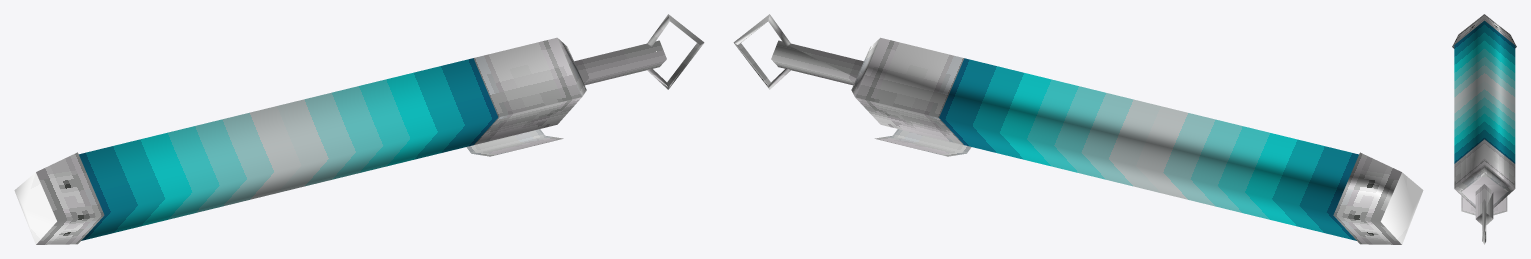
Rendered from eqp_tool_glow_rod_l2.fbx.
3 views of the same model, side by side, from view 1: azimuth 30°, elevation 25°; view 2: azimuth 150°, elevation 25°; view 3: azimuth 270°, elevation 25° (orthographic). The views are drawn at different scales.
Visible parts, largest first — view 1: mesh_node; view 2: mesh_node; view 3: mesh_node.
Part boxes in pixels (bbox=[...]): mesh_node: bbox=[14, 14, 704, 244]; mesh_node: bbox=[733, 14, 1423, 244]; mesh_node: bbox=[1452, 14, 1516, 244].
Bounding box in the file's own units: 0.4025 × 0.0551 × 0.0548.
